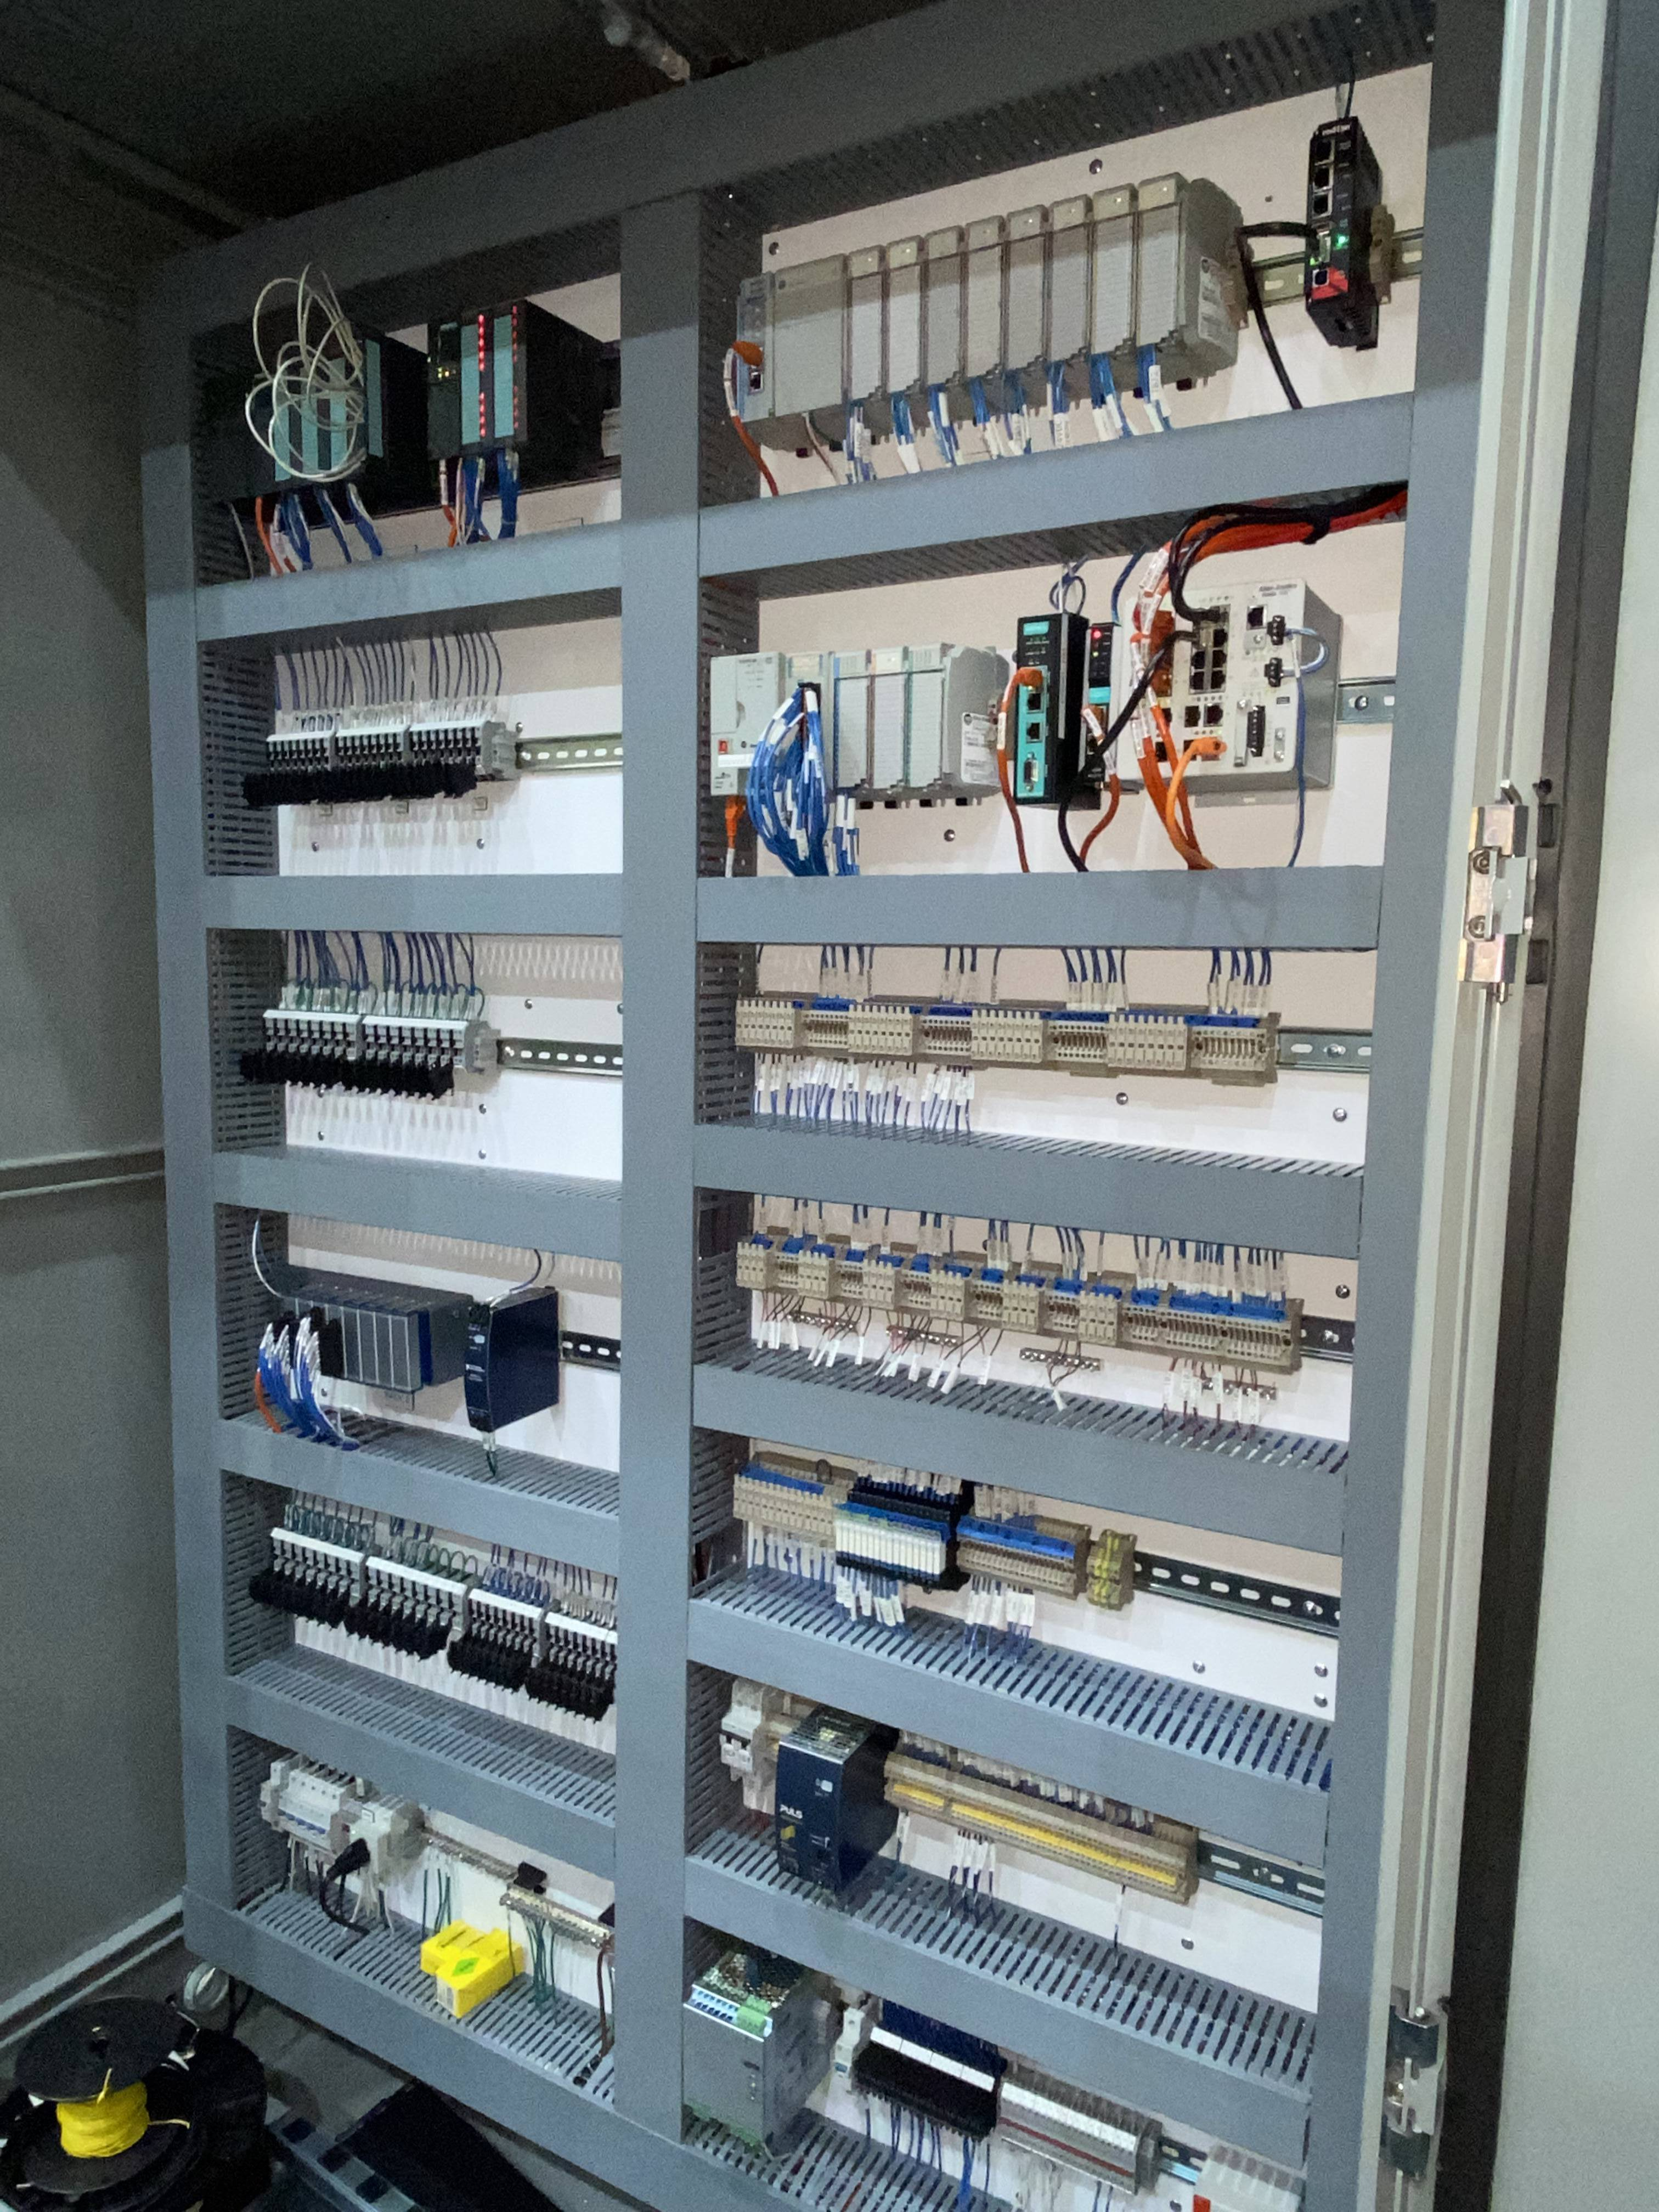AllenBradley: (706, 648, 784, 796)
Siemens: (240, 371, 279, 502)
